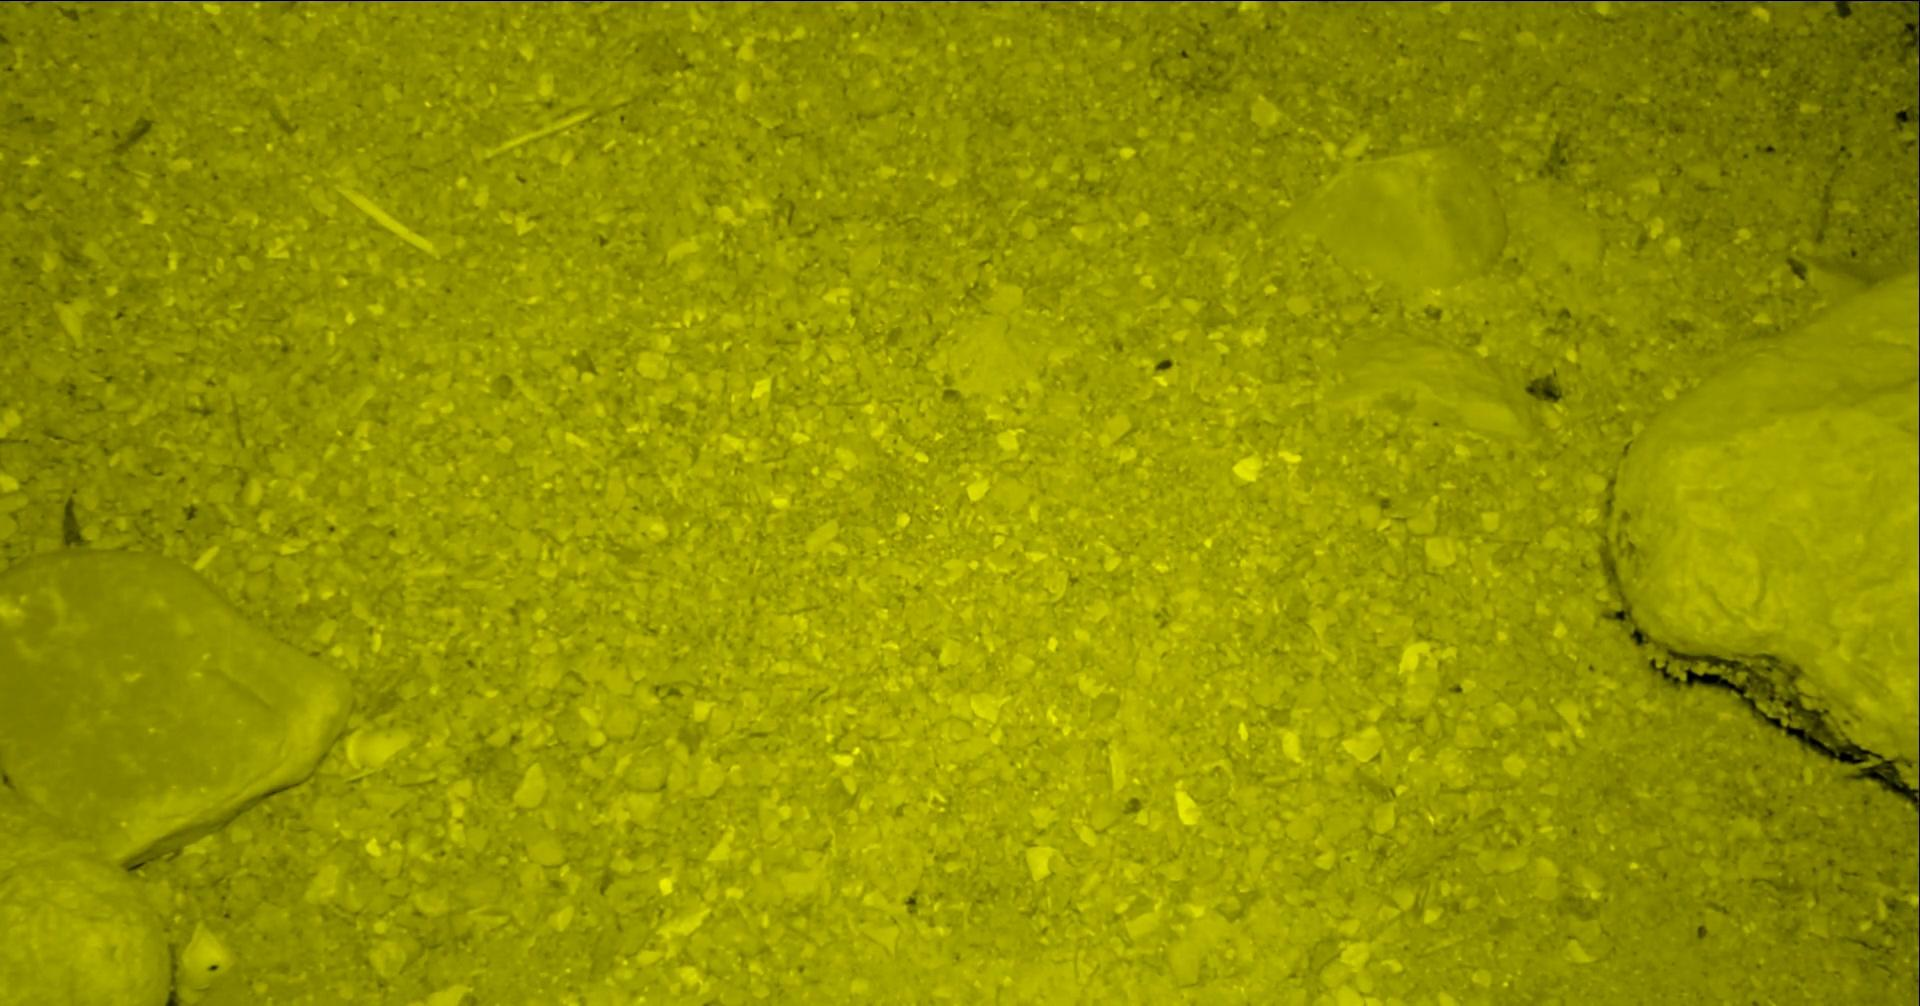ant: (1848, 0, 1919, 4), (1658, 0, 1746, 1), (1917, 122, 1919, 178)
